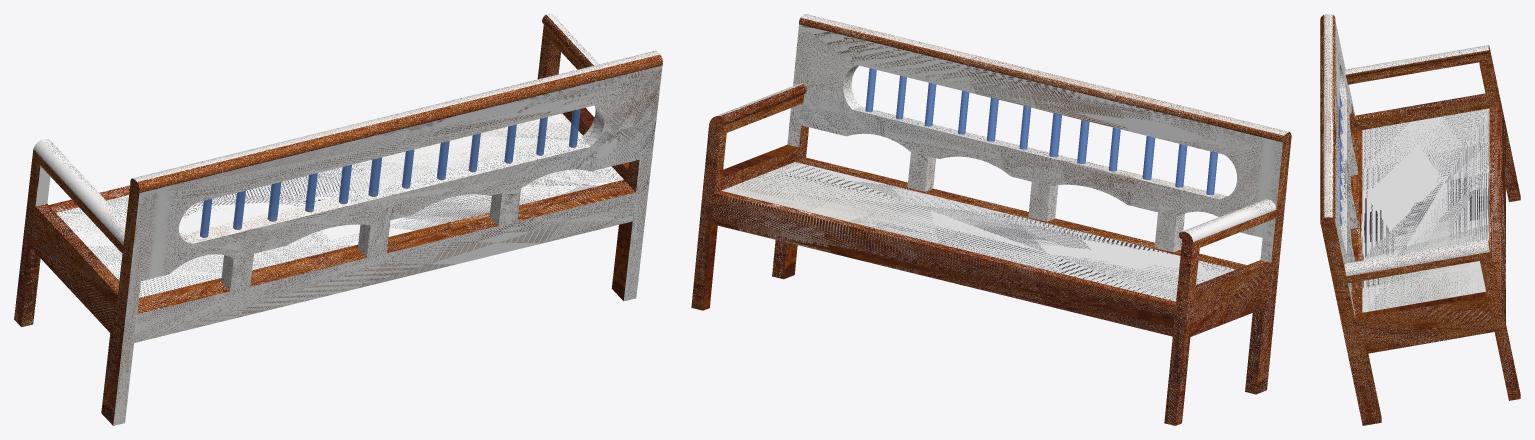
3 views of the same model, side by side, from view 1: azimuth 30°, elevation 25°; view 2: azimuth 150°, elevation 25°; view 3: azimuth 270°, elevation 25° (orthographic). The views are drawn at different scales.
Parts seen in each view (by area): view 1: mesh1_mesh1-geometry; view 2: mesh1_mesh1-geometry; view 3: mesh1_mesh1-geometry.
Boxes of the visible parts, x1,y1,x2,y2 form: mesh1_mesh1-geometry: (14,14,662,425); mesh1_mesh1-geometry: (691,14,1291,425); mesh1_mesh1-geometry: (1320,14,1520,425).
Size of the model in its own units: 0.5528 by 0.2646 by 0.23.
